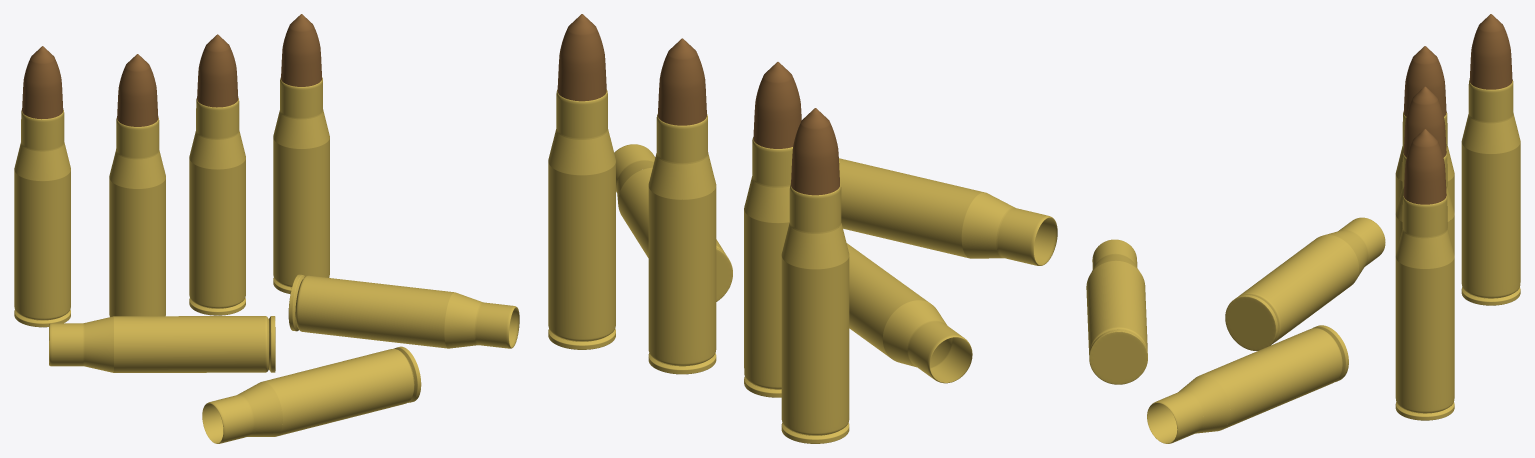
File: bullet.glb
3 views of the same model, side by side, from view 1: azimuth 30°, elevation 25°; view 2: azimuth 150°, elevation 25°; view 3: azimuth 270°, elevation 25° (orthographic). The views are drawn at different scales.
Parts seen in each view (by area): view 1: Cylinder009_15, Cylinder008_14, Cylinder010_16, Cylinder003_10, Cylinder016_5, Cylinder006_12, Cylinder001_8, Cylinder004_11, Cylinder017_6, Cylinder002_9, Cylinder007_13; view 2: Cylinder016_5, Cylinder003_10, Cylinder006_12, Cylinder010_16, Cylinder001_8, Cylinder008_14, Cylinder009_15, Cylinder017_6, Cylinder004_11, Cylinder007_13, Cylinder002_9; view 3: Cylinder016_5, Cylinder006_12, Cylinder009_15, Cylinder008_14, Cylinder010_16, Cylinder017_6, Cylinder007_13, Cylinder004_11, Cylinder002_9, Cylinder003_10, Cylinder001_8.
Part boxes in pixels (x1,y1,x2,y2): Cylinder009_15: (288, 274, 519, 348); Cylinder008_14: (49, 316, 275, 372); Cylinder010_16: (202, 346, 421, 443); Cylinder003_10: (189, 98, 245, 315); Cylinder016_5: (14, 110, 70, 327); Cylinder006_12: (273, 77, 329, 293); Cylinder001_8: (109, 117, 165, 316); Cylinder004_11: (197, 34, 238, 107); Cylinder017_6: (22, 46, 63, 119); Cylinder002_9: (117, 54, 158, 126); Cylinder007_13: (281, 14, 322, 86); Cylinder016_5: (781, 183, 849, 443); Cylinder003_10: (648, 114, 716, 374); Cylinder006_12: (548, 89, 615, 349); Cylinder010_16: (839, 158, 1057, 265); Cylinder001_8: (744, 137, 792, 397); Cylinder008_14: (846, 243, 972, 383); Cylinder009_15: (614, 144, 732, 301); Cylinder017_6: (791, 108, 839, 195); Cylinder004_11: (657, 38, 706, 125); Cylinder007_13: (557, 14, 606, 101); Cylinder002_9: (753, 62, 801, 148); Cylinder016_5: (1461, 80, 1520, 305); Cylinder006_12: (1395, 195, 1454, 420); Cylinder009_15: (1147, 325, 1348, 443); Cylinder008_14: (1225, 217, 1385, 350); Cylinder010_16: (1086, 239, 1147, 384); Cylinder017_6: (1469, 14, 1512, 89); Cylinder007_13: (1403, 129, 1446, 204); Cylinder004_11: (1403, 86, 1446, 157); Cylinder002_9: (1403, 46, 1446, 116); Cylinder003_10: (1395, 152, 1454, 255); Cylinder001_8: (1395, 112, 1454, 212).
Bounding box in the file's own units: 4.94 × 3.27 × 4.61.
